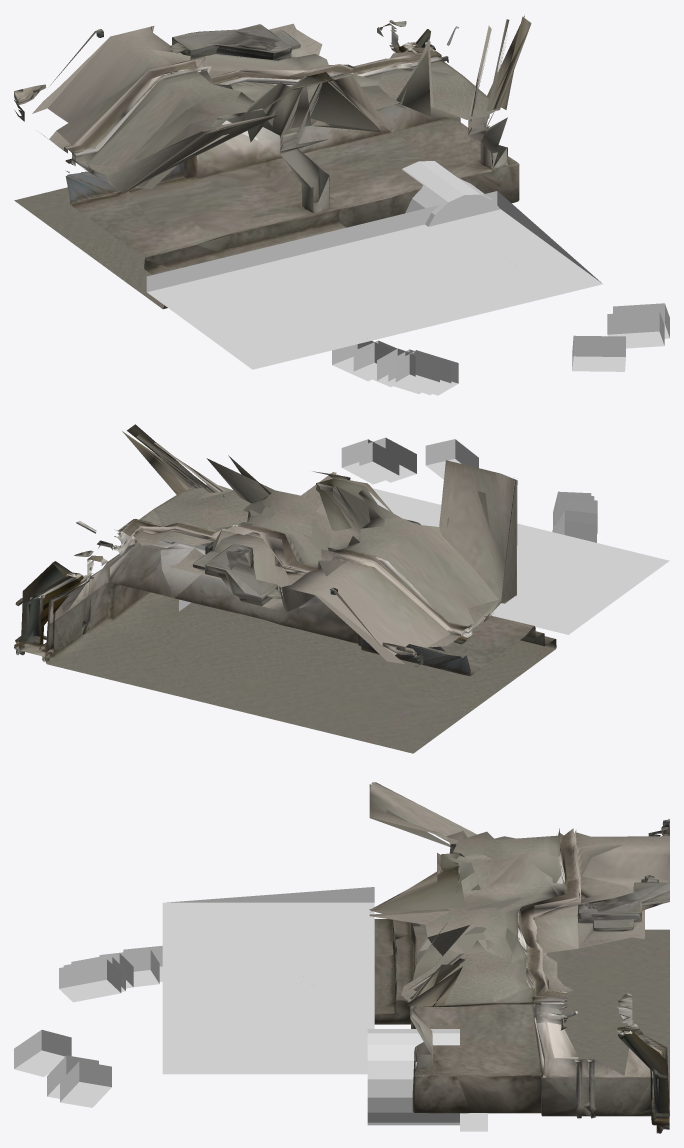
Rendered from militia_field_clinic_wreck.glb.
3 renders of one model, top to bottom at view 1: azimuth 30°, elevation 25°; view 2: azimuth 150°, elevation 25°; view 3: azimuth 270°, elevation 25°, orthographic. The views are drawn at different scales.
Visible parts, largest first — view 1: dome, trim, wall, roof, wood, rust, metal, glass; view 2: wall, trim, dome, roof, wood, glass, metal; view 3: dome, wall, trim, roof, wood, rust, glass, metal.
Part boxes in pixels (x1,y1,x2,y2): dome: (146,191,602,369); trim: (65,23,518,274); wall: (14,15,531,309); roof: (14,23,414,152); wood: (332,303,669,395); rust: (402,161,499,226); metal: (14,20,391,111); glass: (65,29,435,268); wall: (16,424,556,753); trim: (15,458,554,675); dome: (368,488,669,634); roof: (102,529,461,667); wood: (341,437,597,542); glass: (14,561,544,658); metal: (88,543,422,655); dome: (162,887,374,1074); wall: (369,784,669,1133); trim: (369,782,669,1121); roof: (534,832,669,992); wood: (14,945,162,1107); rust: (367,1029,487,1131); glass: (616,1023,669,1128); metal: (578,819,669,997).
Bounding box in the file's own units: 5.69 × 2.68 × 7.47.
1 material, 1 textured.
